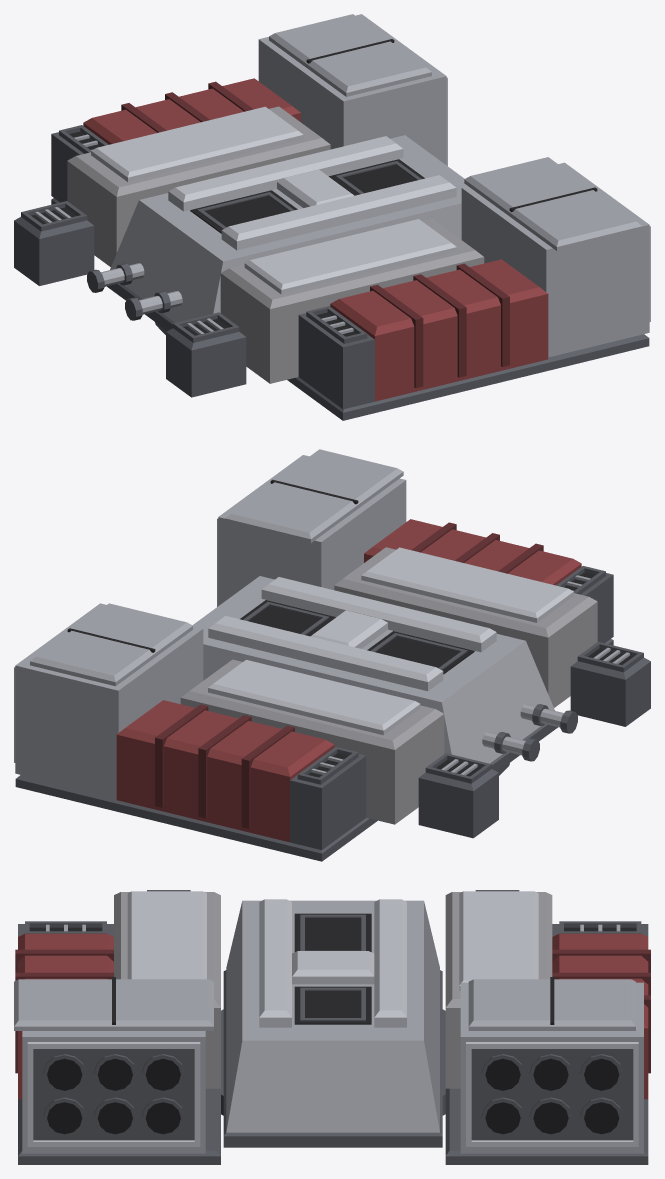
The model's file is vge_gun_javelin_launcher.obj.
3 renders of one model, top to bottom at view 1: azimuth 30°, elevation 25°; view 2: azimuth 150°, elevation 25°; view 3: azimuth 270°, elevation 25°, orthographic. The views are drawn at different scales.
Visible parts, largest first — view 1: vge_gun_javelin_launcher_60, vge_gun_javelin_launcher_3, vge_gun_javelin_launcher_119, vge_gun_javelin_launcher_49, vge_gun_javelin_launcher_85, vge_gun_javelin_launcher_50, vge_gun_javelin_launcher_59, vge_gun_javelin_launcher_118, vge_gun_javelin_launcher_144, vge_gun_javelin_launcher_56, vge_gun_javelin_launcher_40, vge_gun_javelin_launcher_109 (+24 smaller); view 2: vge_gun_javelin_launcher_119, vge_gun_javelin_launcher_3, vge_gun_javelin_launcher_60, vge_gun_javelin_launcher_108, vge_gun_javelin_launcher_85, vge_gun_javelin_launcher_109, vge_gun_javelin_launcher_118, vge_gun_javelin_launcher_59, vge_gun_javelin_launcher_144, vge_gun_javelin_launcher_115, vge_gun_javelin_launcher_99, vge_gun_javelin_launcher_50 (+24 smaller); view 3: vge_gun_javelin_launcher_3, vge_gun_javelin_launcher_85, vge_gun_javelin_launcher_144, vge_gun_javelin_launcher_120, vge_gun_javelin_launcher_61, vge_gun_javelin_launcher_118, vge_gun_javelin_launcher_59, vge_gun_javelin_launcher_119, vge_gun_javelin_launcher_60, vge_gun_javelin_launcher_5, vge_gun_javelin_launcher_7, vge_gun_javelin_launcher_109 (+56 smaller).
Boxes of the visible parts, x1=… form: vge_gun_javelin_launcher_60: x1=461, y1=162, x2=649, y2=357; vge_gun_javelin_launcher_3: x1=110, y1=135, x2=467, y2=322; vge_gun_javelin_launcher_119: x1=258, y1=14, x2=446, y2=164; vge_gun_javelin_launcher_49: x1=330, y1=294, x2=548, y2=401; vge_gun_javelin_launcher_85: x1=464, y1=157, x2=641, y2=246; vge_gun_javelin_launcher_50: x1=331, y1=259, x2=547, y2=335; vge_gun_javelin_launcher_59: x1=245, y1=219, x2=456, y2=289; vge_gun_javelin_launcher_118: x1=91, y1=106, x2=303, y2=177; vge_gun_javelin_launcher_144: x1=269, y1=14, x2=431, y2=92; vge_gun_javelin_launcher_56: x1=220, y1=257, x2=484, y2=383; vge_gun_javelin_launcher_40: x1=298, y1=313, x2=374, y2=409; vge_gun_javelin_launcher_109: x1=83, y1=78, x2=300, y2=143; vge_gun_javelin_launcher_119: x1=15, y1=603, x2=203, y2=798; vge_gun_javelin_launcher_3: x1=192, y1=576, x2=554, y2=763; vge_gun_javelin_launcher_60: x1=218, y1=455, x2=406, y2=605; vge_gun_javelin_launcher_108: x1=116, y1=735, x2=334, y2=842; vge_gun_javelin_launcher_85: x1=225, y1=449, x2=403, y2=539; vge_gun_javelin_launcher_109: x1=117, y1=700, x2=333, y2=776; vge_gun_javelin_launcher_118: x1=208, y1=659, x2=419, y2=730; vge_gun_javelin_launcher_59: x1=362, y1=547, x2=573, y2=618; vge_gun_javelin_launcher_144: x1=30, y1=603, x2=192, y2=682; vge_gun_javelin_launcher_115: x1=180, y1=698, x2=444, y2=824; vge_gun_javelin_launcher_99: x1=290, y1=754, x2=366, y2=849; vge_gun_javelin_launcher_50: x1=364, y1=519, x2=581, y2=584; vge_gun_javelin_launcher_3: x1=226, y1=900, x2=439, y2=1132; vge_gun_javelin_launcher_85: x1=14, y1=979, x2=213, y2=1026; vge_gun_javelin_launcher_144: x1=468, y1=979, x2=635, y2=1026; vge_gun_javelin_launcher_120: x1=471, y1=1049, x2=633, y2=1140; vge_gun_javelin_launcher_61: x1=33, y1=1049, x2=194, y2=1140; vge_gun_javelin_launcher_118: x1=459, y1=891, x2=538, y2=985; vge_gun_javelin_launcher_59: x1=127, y1=891, x2=206, y2=979; vge_gun_javelin_launcher_119: x1=460, y1=982, x2=643, y2=1153; vge_gun_javelin_launcher_60: x1=22, y1=1031, x2=205, y2=1153; vge_gun_javelin_launcher_5: x1=259, y1=899, x2=291, y2=1017; vge_gun_javelin_launcher_7: x1=374, y1=899, x2=406, y2=1017; vge_gun_javelin_launcher_109: x1=552, y1=933, x2=648, y2=1028.
Bounding box in the file's own units: 3.71 × 1.27 × 4.65.
